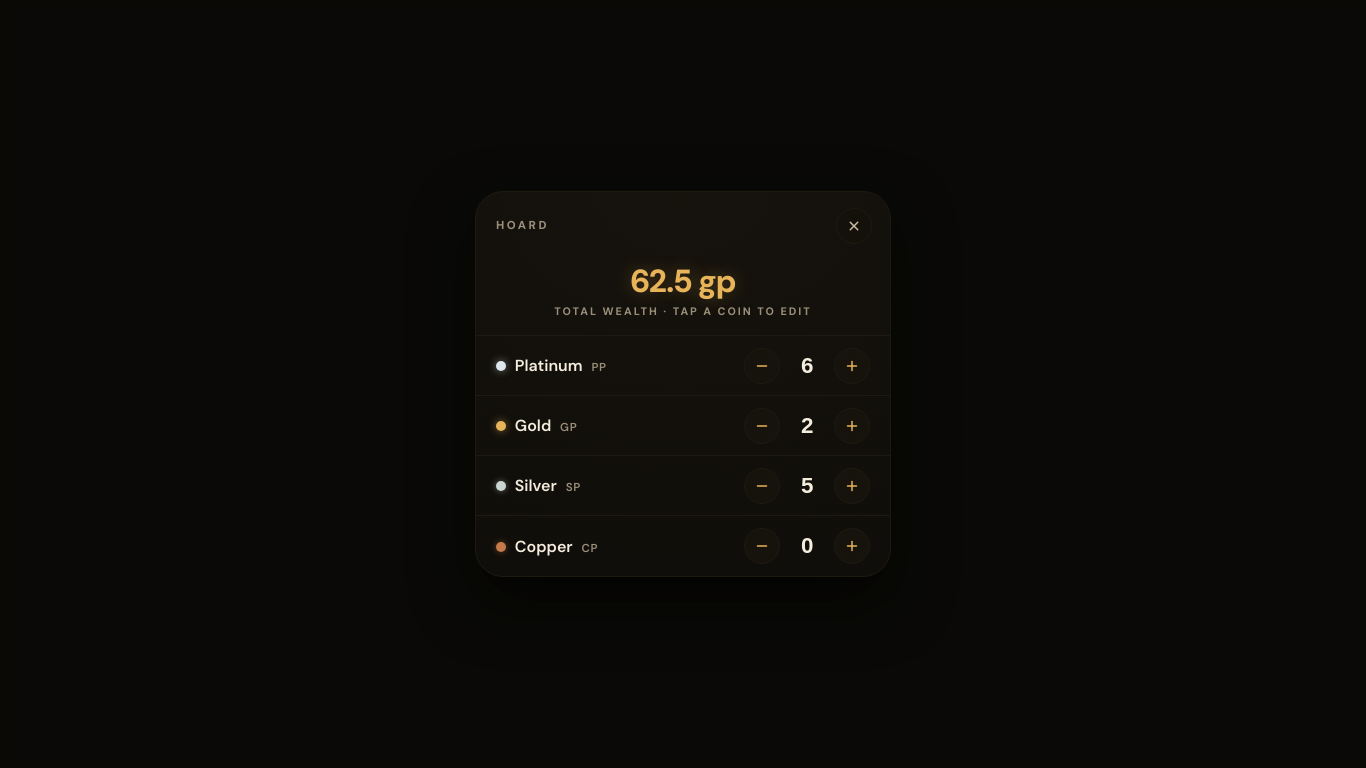
it: CoinSheet › disables the console distill when the purse is already minimal
The image size is (1366, 768).
Click the button named "gold — 2 gp, edit" at {"x": 807, "y": 426}, box [787, 410, 827, 442]
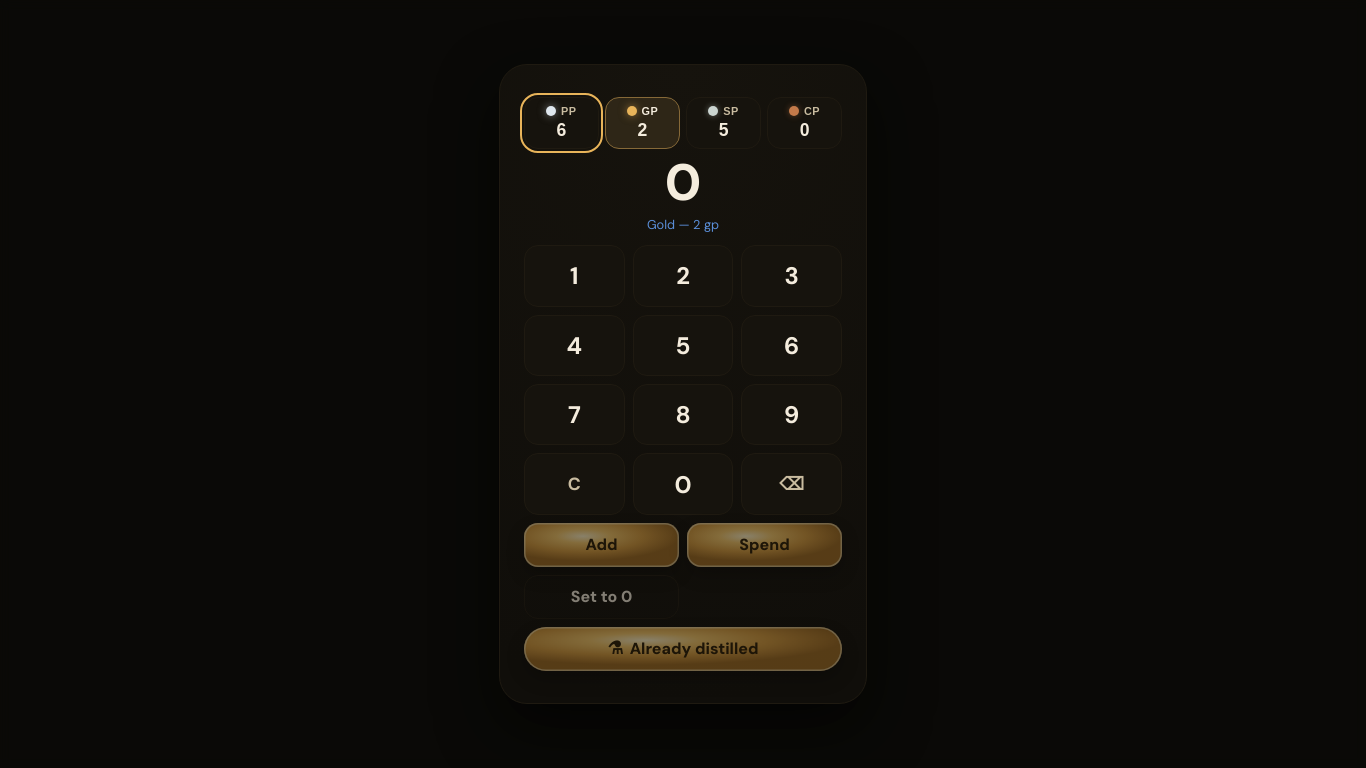
Expected: the button "⚗ Already distilled" is disabled, [524, 627, 842, 671]
